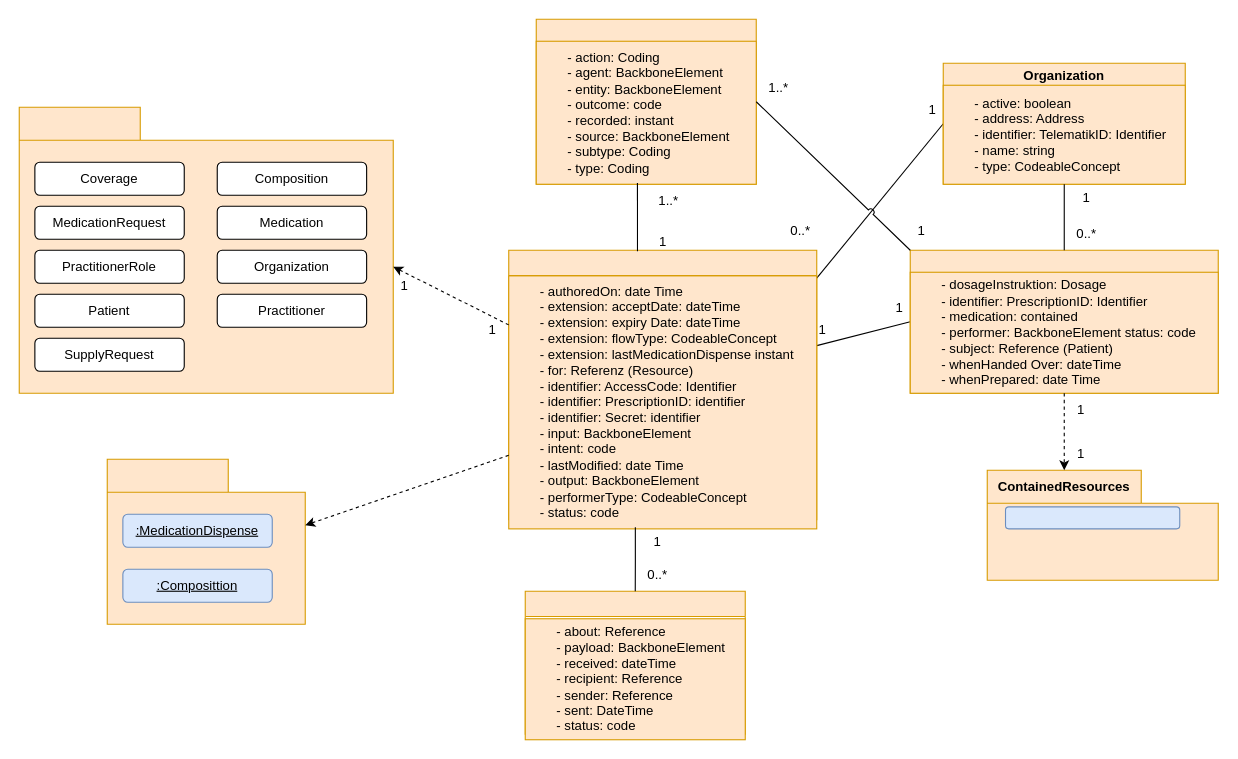
This 1238x759 diagram has some shape labels left out. Here are the shapes that lost their labels. From the top down, the box of each, then its label:
(535, 18, 756, 184): AuditEvent
(18, 106, 393, 393): KBV Bundle
(909, 249, 1218, 393): MedicationDispense
(508, 249, 817, 520): Task
(1004, 506, 1180, 529): :Medication
(106, 458, 305, 624): Quittung Bundle
(524, 590, 745, 734): Communication
